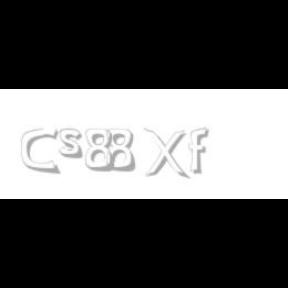8: (106, 128, 136, 172), (86, 128, 114, 172)
C: (22, 128, 58, 174)
X: (143, 128, 187, 180)
f: (188, 128, 212, 174)
s: (59, 128, 87, 160)
